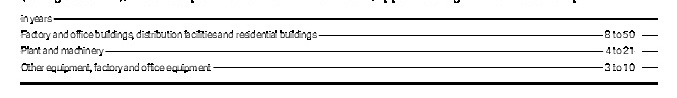table: (0, 0, 677, 98)
